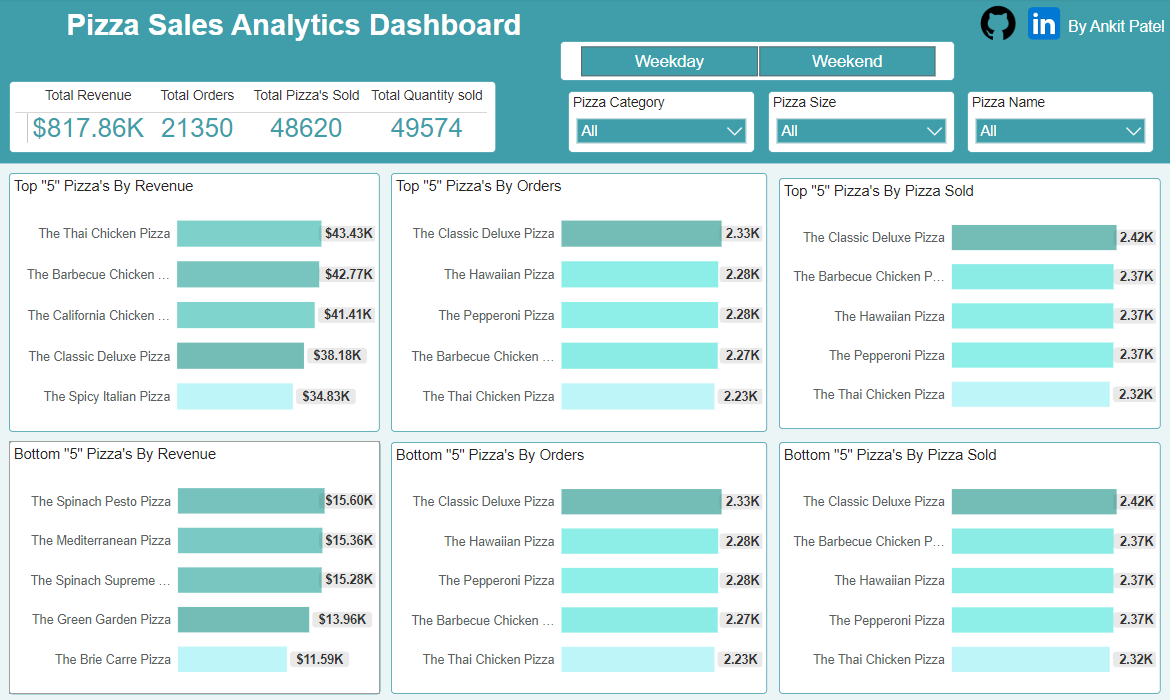

The page's visual inventory and layout, read from the dashboard file:
{"tool":"powerbi","page":{"name":"Page 1","canvas":[1500,900],"ordinal":0},"visuals":[{"type":"shape","box":[0,0,1500,211.9],"z":0},{"type":"slicer","title":"Pizza Category","fields":{"Values":["pizza_sales.pizza_category"]},"box":[730.3,105.8,238.9,92.2],"z":1000},{"type":"slicer","title":"Pizza Size","fields":{"Values":["pizza_sales.pizza_size"]},"box":[985.1,105.8,238.9,92.2],"z":2000},{"type":"slicer","title":"Pizza Name","fields":{"Values":["pizza_sales.pizza_name"]},"box":[1239.9,105.8,238.9,92.2],"z":3000},{"type":"textbox","box":[0,0,719.8,80.1],"z":5000},{"type":"image","box":[1232.4,0,95.3,65],"z":7000},{"type":"image","box":[1291.3,0,95.3,65],"z":8000},{"type":"actionButton","title":"By Ankit Patel","box":[1370,25.7,130,28.7],"z":9000},{"type":"pivotTable","fields":{"Values":["Measures Table.Total Revenue","Measures Table.Total Orders","Measures Table.Total Pizza's Sold","Measures Table.Total Quantity sold"]},"box":[15.1,105.8,623,92.2],"z":14000},{"type":"barChart","title":"Top \"5\" Pizza''s By Revenue","fields":{"Category":["pizza_sales.pizza_name"],"Y":["Measures Table.Total Revenue"]},"box":[15.3,223.8,474.4,331.2],"z":14002},{"type":"barChart","title":"Top \"5\" Pizza''s By Orders","fields":{"Y":["Measures Table.Total Orders"],"Category":["pizza_sales.pizza_name"]},"box":[503.8,223.8,480.8,331.2],"z":14003},{"type":"barChart","title":"Top \"5\" Pizza''s By Pizza Sold","fields":{"Category":["pizza_sales.pizza_name"],"Y":["Measures Table.Total Pizza's Sold"]},"box":[999.5,229.8,488.4,320.6],"z":14004},{"type":"barChart","title":"Bottom \"5\" Pizza''s By Revenue","fields":{"Category":["pizza_sales.pizza_name"],"Y":["Measures Table.Total Revenue"]},"box":[15.1,567,474.8,323.6],"z":14005},{"type":"barChart","title":"Bottom \"5\" Pizza''s By Orders","fields":{"Y":["Measures Table.Total Orders"],"Category":["pizza_sales.pizza_name"]},"box":[503.8,567.8,480.8,322.3],"z":14006},{"type":"barChart","title":"Bottom \"5\" Pizza''s By Pizza Sold","fields":{"Category":["pizza_sales.pizza_name"],"Y":["Measures Table.Total Pizza's Sold"]},"box":[1000,567.8,488.5,322.3],"z":14007}]}

Visuals, with their boxes in screenshot pixels (x1, y1, x2, y2), scaled from the page's 1500x900 canvas onto the 1170x700 screenshot:
shape: (0, 0, 1169, 165)
"Pizza Category" slicer: (570, 82, 756, 154)
"Pizza Size" slicer: (768, 82, 955, 154)
"Pizza Name" slicer: (967, 82, 1153, 154)
textbox: (0, 0, 561, 62)
image: (961, 0, 1036, 51)
image: (1007, 0, 1082, 51)
"By Ankit Patel" actionButton: (1069, 20, 1169, 42)
pivotTable - Measures Table.Total Revenue x Measures Table.Total Orders: (12, 82, 498, 154)
"Top "5" Pizza''s By Revenue" barChart: (12, 174, 382, 432)
"Top "5" Pizza''s By Orders" barChart: (393, 174, 768, 432)
"Top "5" Pizza''s By Pizza Sold" barChart: (780, 179, 1161, 428)
"Bottom "5" Pizza''s By Revenue" barChart: (12, 441, 382, 693)
"Bottom "5" Pizza''s By Orders" barChart: (393, 442, 768, 692)
"Bottom "5" Pizza''s By Pizza Sold" barChart: (780, 442, 1161, 692)
